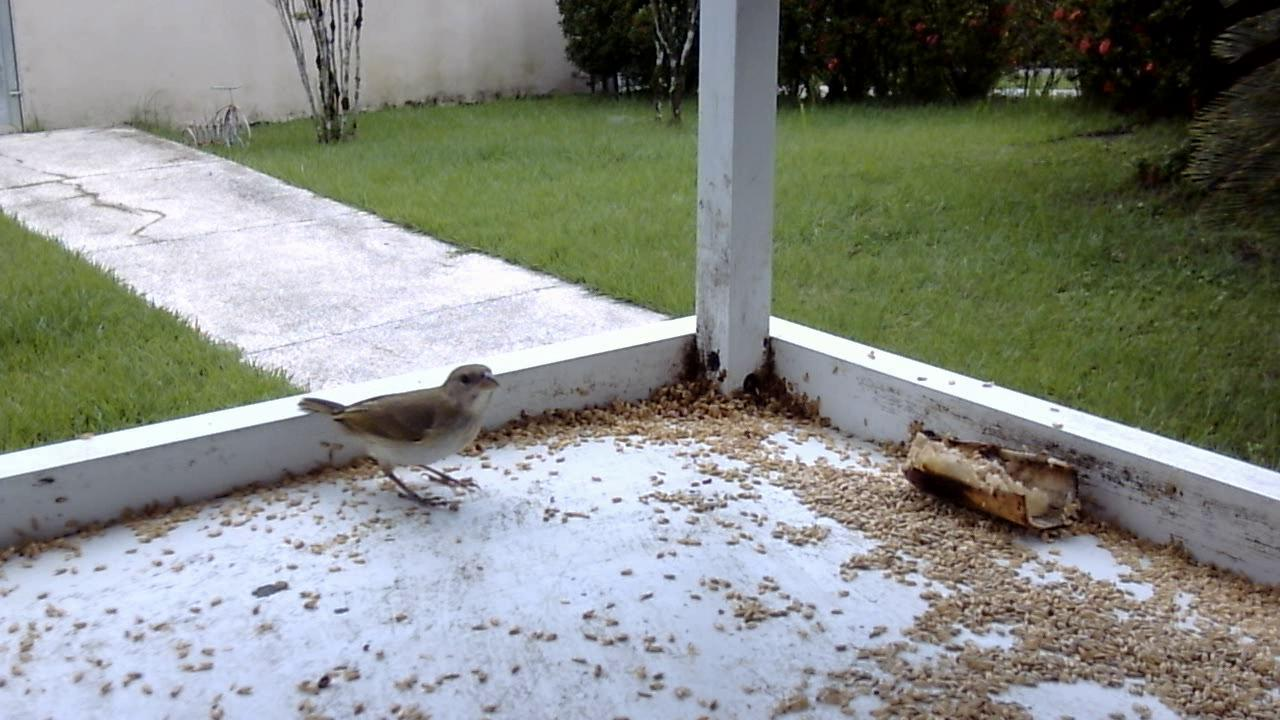canario_do_amazonas: (293, 352, 507, 519)
